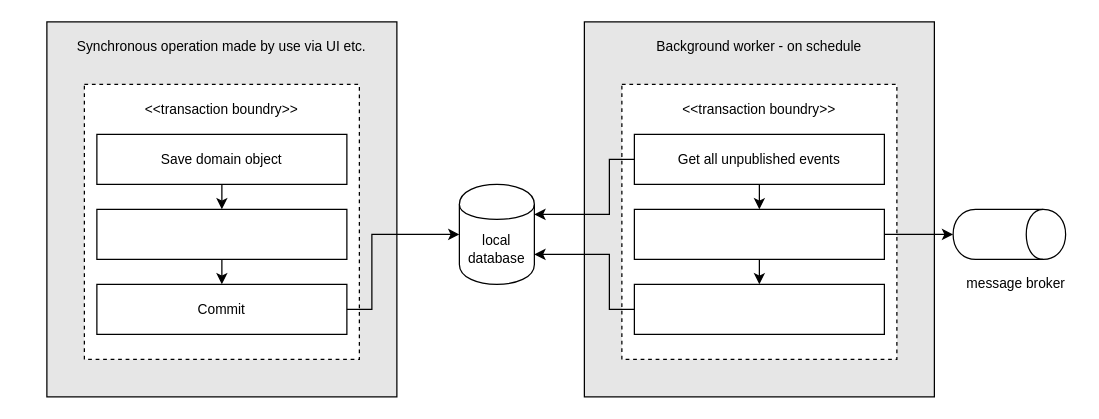
The diagram is 1099 pixels wide and 419 high, and some of its shapes have lost their labels. The centre of each missing label's shape, as x and y in pixels:
Commit if publish succeeded: [758,308]
Publish every event: [758,233]
Save events to events table: [221,233]
